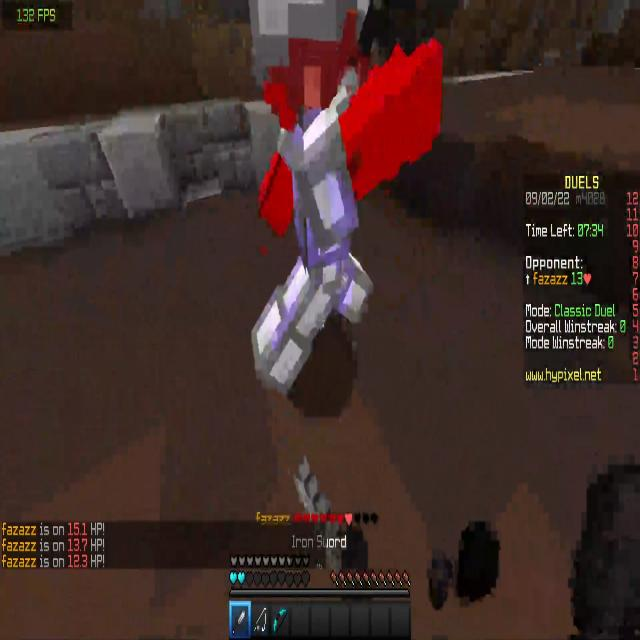Player: (231, 0, 451, 429)
